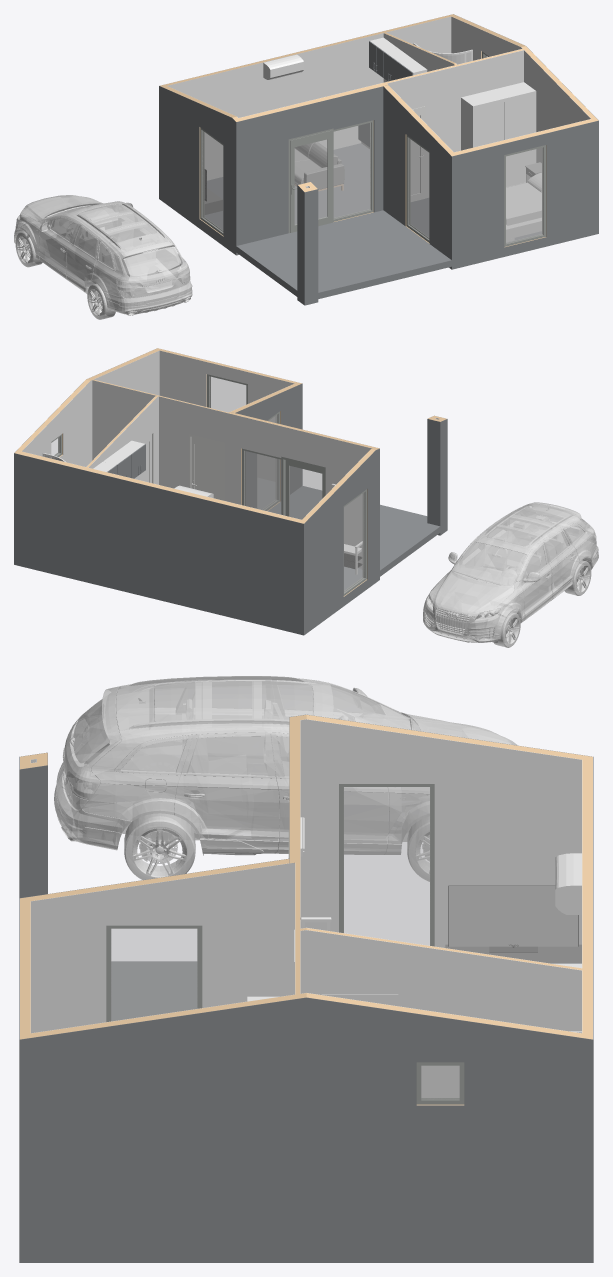
File: kotlovskaliucina@gmail_(6,0x7,0m).fbx
The picture shows the model from 3 angles, top to bottom: view 1: azimuth 30°, elevation 25°; view 2: azimuth 150°, elevation 25°; view 3: azimuth 270°, elevation 25°; orthographic projection. The views are drawn at different scales.
Parts seen in each view (by area): view 1: IfcFurnishingElement/Audi+Q7+-+Change+color+bimshares.com (2, IfcWall/Part:2345357, IfcWall/Part:2345365, IfcWall/Part:2390062, IfcSlab/Floor:Sumustinis pilnas 145mm:2395207, IfcWall/Part:2345363, IfcWall/Part:2390262, IfcWall/Part:2399454, IfcFurnishingElement/Cabinet_-_Storage:1500 x 500 x 2100mm:2, IfcWall/Part:2345359, IfcWindow/Langai:2100 x 1000:2379139, IfcSlab/Floor:Sumustinis pilnas 145mm:2379064 (+19 smaller); view 2: IfcWall/Part:2345366, IfcFurnishingElement/Audi+Q7+-+Change+color+bimshares.com (2, IfcWall/Part:2345363, IfcWall/Part:2390061, IfcWall/Part:2345359, IfcWall/Part:2399453, IfcWall/Part:2345356, IfcSlab/Floor:Sumustinis pilnas 145mm:2395207, IfcWall/Part:2399571, IfcWall/Part:2390262, IfcDoor/Lauko durys:1000x2100:2400559, IfcWindow/Langai:2100 x 1000:2390072 (+16 smaller); view 3: IfcWall/Part:2345360, IfcFurnishingElement/Audi+Q7+-+Change+color+bimshares.com (2, IfcWall/Part:2345362, IfcWall/Part:2390261, IfcWall/Part:2345350, IfcWindow/Langai:2100 x 1000 (varstomas-dešininis):2400692, IfcWindow/Langai:2100 x 1000 (varstomas-kairinis):2396769, IfcBuildingElementProxy/TV Sony2:TV Sony 2:2379143, IfcSlab/Floor:Sumustinis pilnas 145mm:2395207, IfcWall/Part:2396217, IfcWall/Part:2345367, IfcWall/Part:2345361 (+10 smaller).
Part boxes in pixels (x1,y1,x2,y2): IfcFurnishingElement/Audi+Q7+-+Change+color+bimshares.com (2: [14, 195, 192, 319]; IfcWall/Part:2345357: [451, 120, 598, 269]; IfcWall/Part:2345365: [167, 16, 451, 180]; IfcWall/Part:2390062: [236, 85, 386, 255]; IfcSlab/Floor:Sumustinis pilnas 145mm:2395207: [236, 210, 451, 302]; IfcWall/Part:2345363: [159, 86, 236, 255]; IfcWall/Part:2390262: [383, 86, 451, 269]; IfcWall/Part:2399454: [387, 50, 523, 197]; IfcFurnishingElement/Cabinet_-_Storage:1500 x 500 x 2100mm:2: [461, 82, 536, 187]; IfcWall/Part:2345359: [451, 16, 590, 162]; IfcWindow/Langai:2100 x 1000:2379139: [504, 145, 545, 246]; IfcSlab/Floor:Sumustinis pilnas 145mm:2379064: [204, 143, 541, 240]; IfcWall/Part:2345366: [14, 453, 304, 635]; IfcFurnishingElement/Audi+Q7+-+Change+color+bimshares.com (2: [423, 502, 598, 647]; IfcWall/Part:2345363: [304, 448, 379, 634]; IfcWall/Part:2390061: [227, 413, 371, 568]; IfcWall/Part:2345359: [22, 350, 159, 466]; IfcWall/Part:2399453: [159, 396, 227, 501]; IfcWall/Part:2345356: [159, 350, 294, 481]; IfcSlab/Floor:Sumustinis pilnas 145mm:2395207: [268, 486, 447, 576]; IfcWall/Part:2399571: [92, 380, 156, 460]; IfcWall/Part:2390262: [235, 384, 302, 508]; IfcDoor/Lauko durys:1000x2100:2400559: [281, 456, 325, 519]; IfcWindow/Langai:2100 x 1000:2390072: [242, 448, 285, 514]; IfcWall/Part:2345360: [20, 997, 592, 1262]; IfcFurnishingElement/Audi+Q7+-+Change+color+bimshares.com (2: [54, 676, 517, 881]; IfcWall/Part:2345362: [300, 719, 581, 947]; IfcWall/Part:2390261: [31, 863, 294, 1033]; IfcWall/Part:2345350: [300, 930, 581, 1097]; IfcWindow/Langai:2100 x 1000 (varstomas-dešininis):2400692: [339, 784, 434, 946]; IfcWindow/Langai:2100 x 1000 (varstomas-kairinis):2396769: [106, 925, 202, 1021]; IfcBuildingElementProxy/TV Sony2:TV Sony 2:2379143: [448, 885, 578, 952]; IfcSlab/Floor:Sumustinis pilnas 145mm:2395207: [111, 961, 197, 1021]; IfcWall/Part:2396217: [20, 765, 47, 897]; IfcWall/Part:2345367: [582, 755, 592, 1039]; IfcWall/Part:2345361: [30, 993, 582, 1105].
Bounding box in the file's own units: 1125 × 306 × 600.
